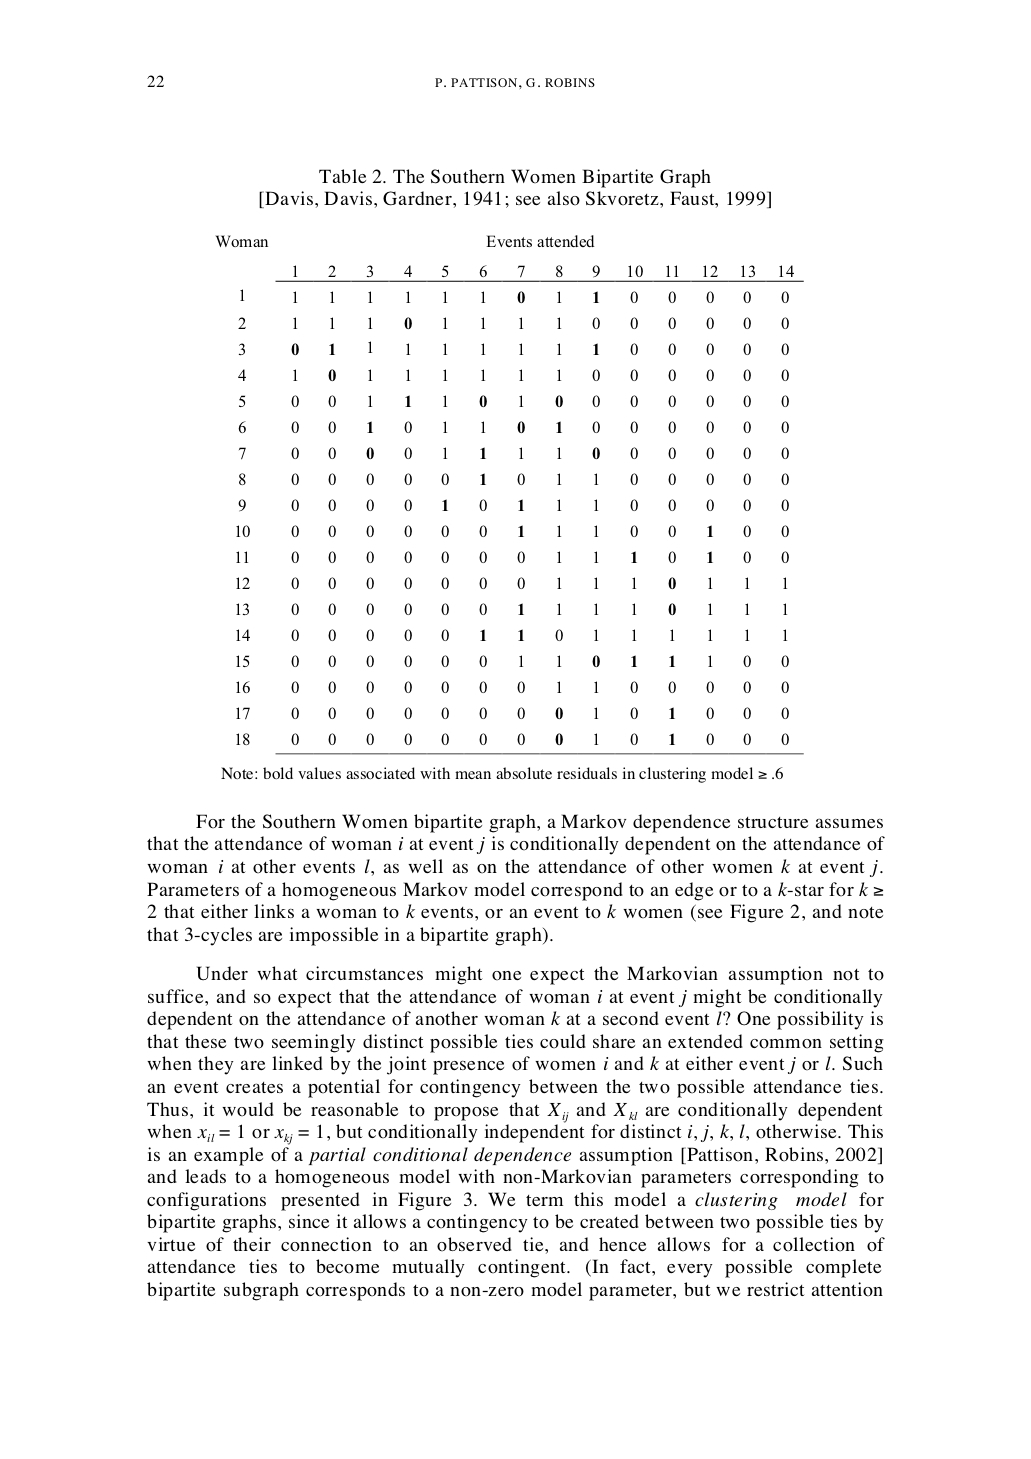Table: (215, 235, 803, 754)
